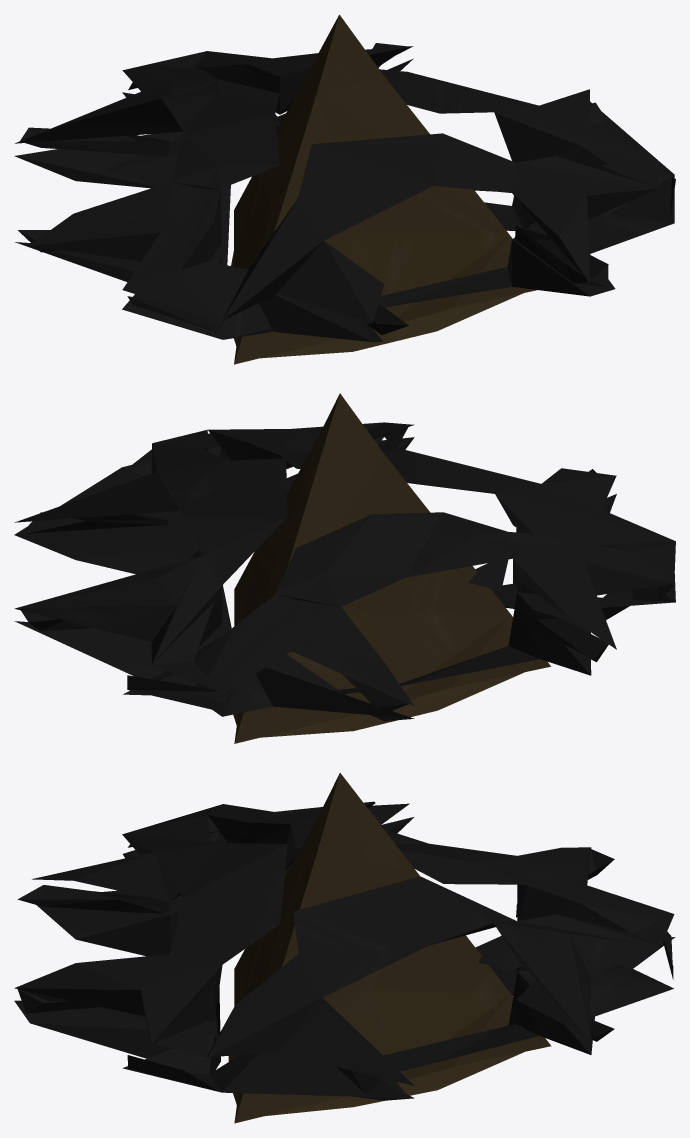
3 renders of one model, top to bottom at view 1: azimuth 30°, elevation 25°; view 2: azimuth 150°, elevation 25°; view 3: azimuth 270°, elevation 25°, orthographic.
Parts seen in each view (by area): view 1: defaultMaterial; view 2: defaultMaterial; view 3: defaultMaterial.
Boxes of the visible parts, x1,y1,x2,y2 form: defaultMaterial: (14, 14, 675, 364); defaultMaterial: (14, 393, 675, 743); defaultMaterial: (14, 773, 675, 1123).
Bounding box in the file's own units: 64879 × 30537 × 63798.
